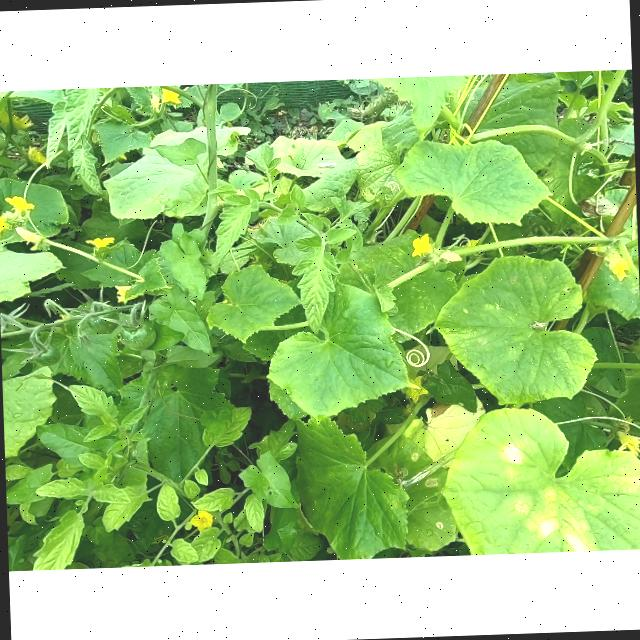Flowers: (614, 428, 640, 461), (4, 194, 36, 219), (15, 225, 43, 252), (404, 374, 429, 403), (606, 254, 629, 281), (190, 508, 213, 532), (160, 85, 182, 109), (410, 232, 431, 257), (86, 236, 116, 253), (27, 145, 48, 169), (9, 113, 33, 134), (115, 283, 134, 305), (0, 212, 8, 238), (150, 94, 160, 111)
